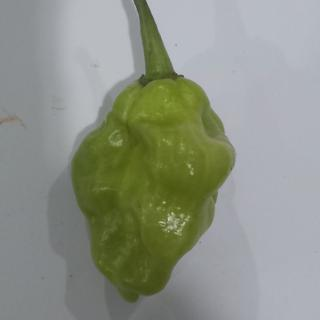Grade-A: (67, 68, 241, 305)
